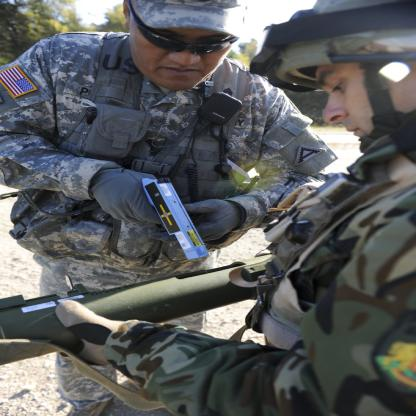Helmet: (282, 9, 409, 148)
